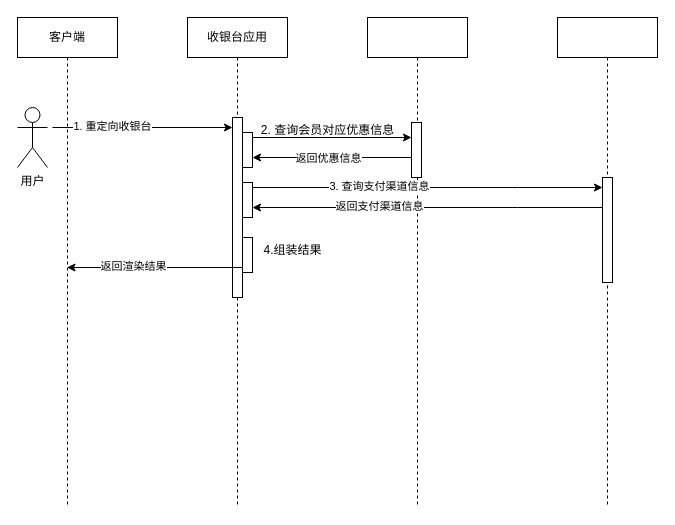
Image size: 675x525. Some labels were removed from this diagram. Each missing label, with the box of its shape:
会员营销应用: (366, 16, 468, 508)
支付应用: (556, 16, 658, 508)
